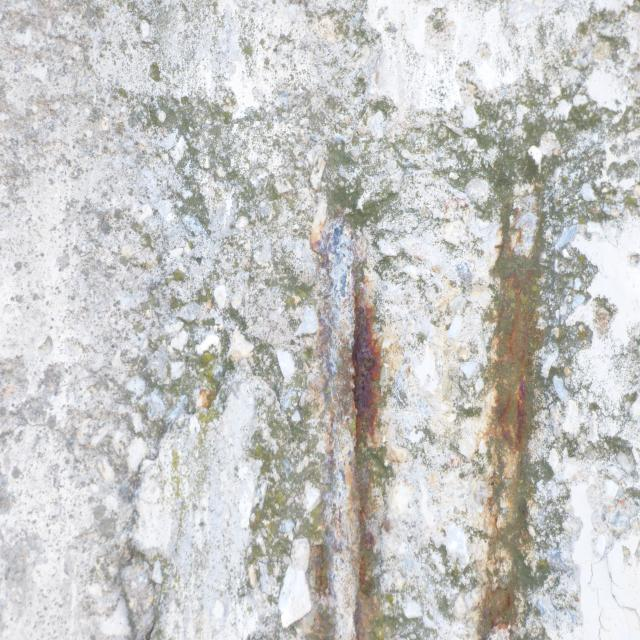corrosion: (161, 173, 600, 640)
